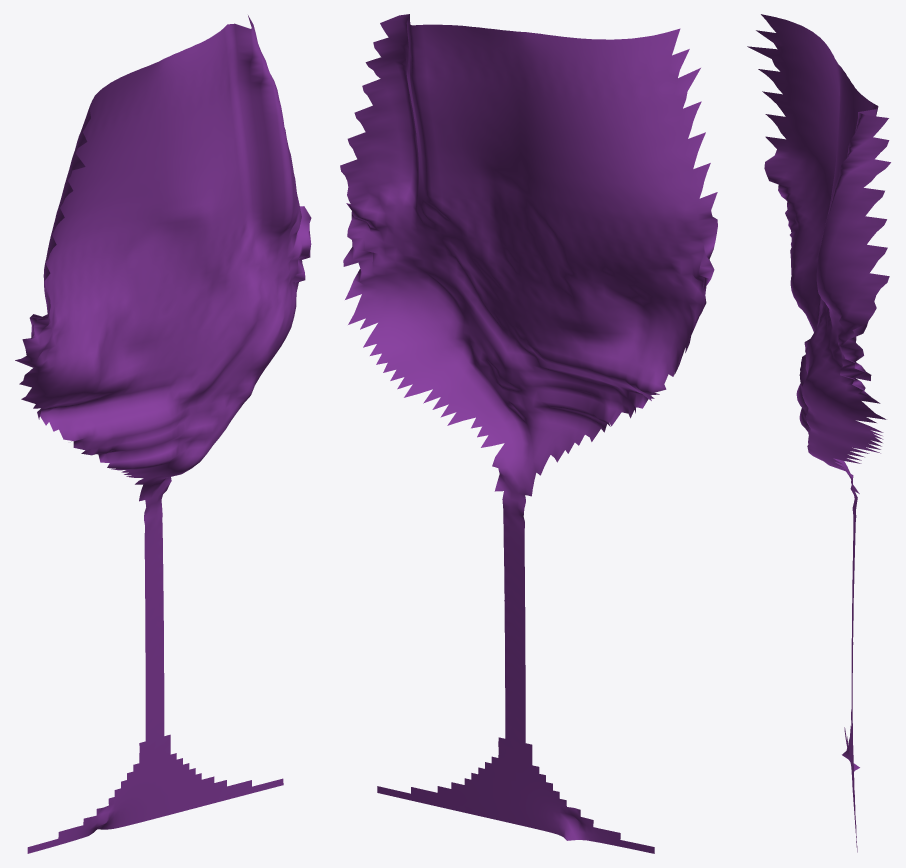
File: wineglass_SFL.glb
3 views of the same model, side by side, from view 1: azimuth 30°, elevation 25°; view 2: azimuth 150°, elevation 25°; view 3: azimuth 270°, elevation 25° (orthographic). The views are drawn at different scales.
Visible parts, largest first — view 1: main-sfl-wineglass; view 2: main-sfl-wineglass; view 3: main-sfl-wineglass.
Boxes of the visible parts, x1=… form: main-sfl-wineglass: x1=15, y1=15, x2=311, y2=853; main-sfl-wineglass: x1=340, y1=14, x2=717, y2=853; main-sfl-wineglass: x1=747, y1=14, x2=890, y2=852.
Bounding box in the file's own units: 0.49 × 1.14 × 0.2061.
